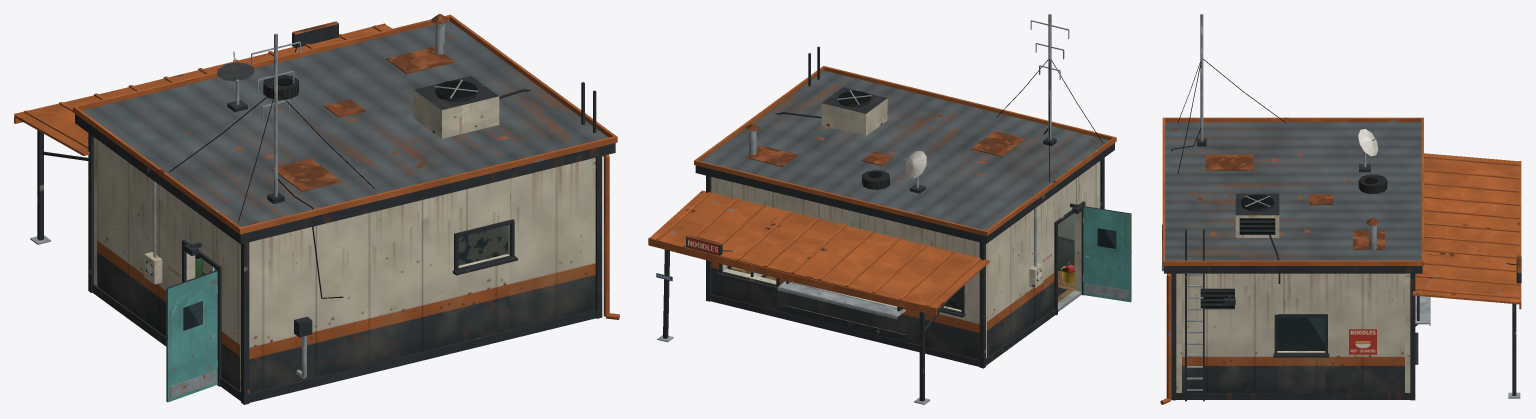
Rendered from Kiosk.fbx.
3 renders of one model, left to right at view 1: azimuth 30°, elevation 25°; view 2: azimuth 150°, elevation 25°; view 3: azimuth 270°, elevation 25°, orthographic. The views are drawn at different scales.
Visible parts, largest first — view 1: Kiosk; view 2: Kiosk; view 3: Kiosk.
Part boxes in pixels (left/top/right/bottom): Kiosk: left=14, top=14, right=619, bottom=404; Kiosk: left=648, top=14, right=1131, bottom=404; Kiosk: left=1160, top=14, right=1521, bottom=404.
Size of the model in its own units: 9.67 by 7.46 by 9.07.
